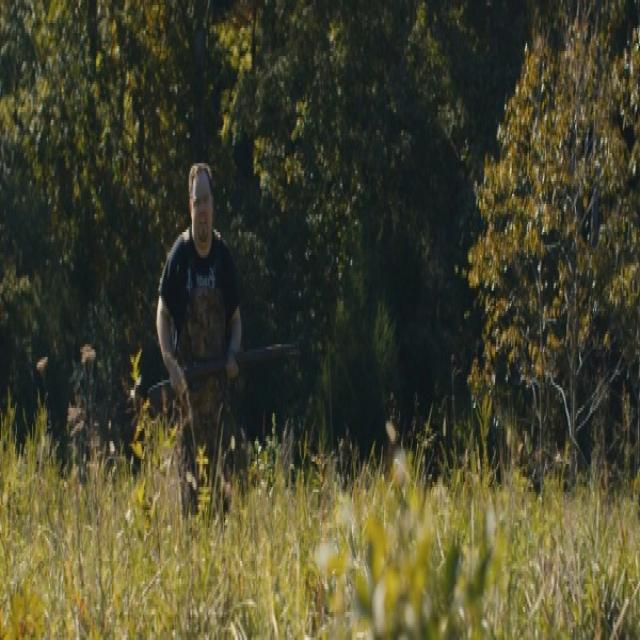rifle: (147, 331, 305, 415)
